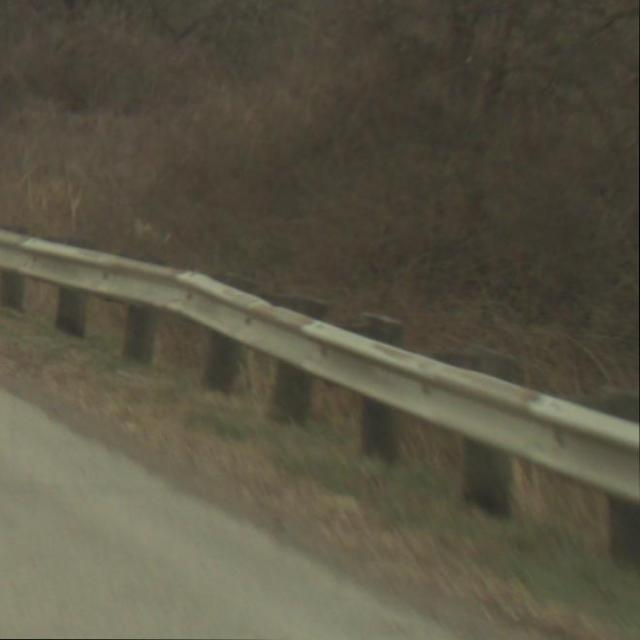Guard rail: (0, 215, 640, 581)
